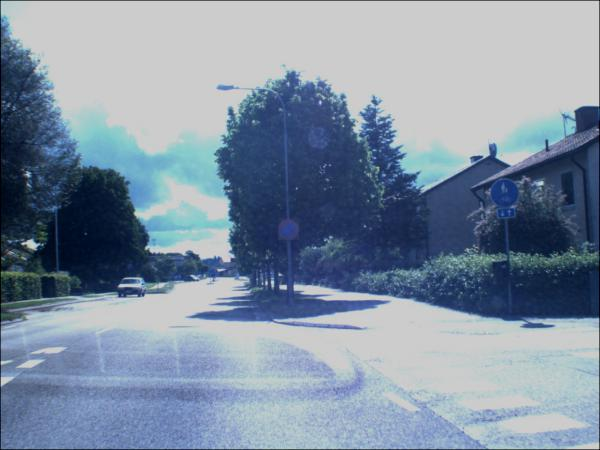NO_PARKING: (279, 219, 301, 242)
